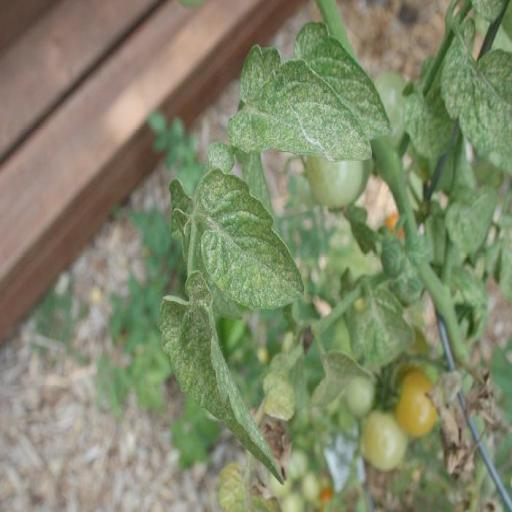Spider Mites: (154, 290, 286, 486), (228, 40, 372, 166), (198, 165, 306, 311)
